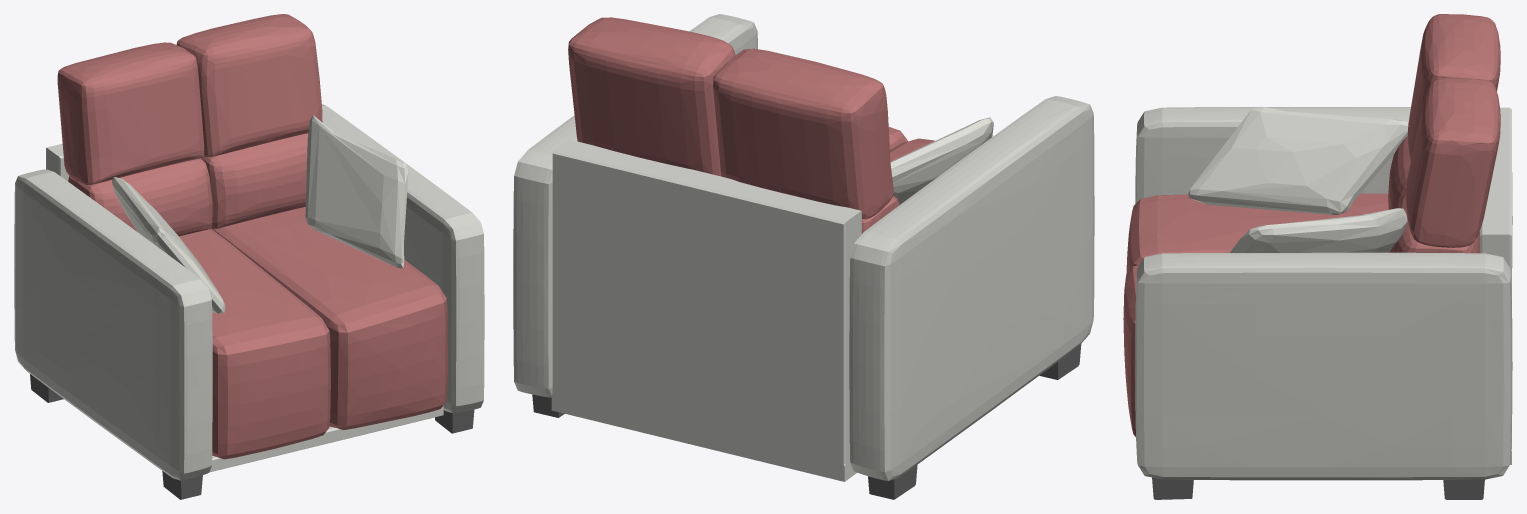
The model's file is sh-scopia-simple-sofa.glb.
3 views of the same model, side by side, from view 1: azimuth 30°, elevation 25°; view 2: azimuth 150°, elevation 25°; view 3: azimuth 270°, elevation 25° (orthographic). The views are drawn at different scales.
Visible parts, largest first — view 1: coj_grandes_Cube.003, base_sofa_Cube.002, cojin1_Cube.004, pata_Cube.006; view 2: base_sofa_Cube.002, coj_grandes_Cube.003, cojin1_Cube.004, pata_Cube.006; view 3: base_sofa_Cube.002, coj_grandes_Cube.003, cojin1_Cube.004, pata_Cube.006.
Boxes of the visible parts, x1,y1,x2,y2 form: coj_grandes_Cube.003: [57, 14, 447, 459]; base_sofa_Cube.002: [14, 104, 484, 480]; cojin1_Cube.004: [112, 115, 408, 313]; pata_Cube.006: [30, 374, 474, 499]; base_sofa_Cube.002: [513, 14, 1094, 481]; coj_grandes_Cube.003: [568, 17, 934, 233]; cojin1_Cube.004: [890, 117, 993, 204]; pata_Cube.006: [532, 344, 1081, 499]; base_sofa_Cube.002: [1135, 107, 1512, 480]; coj_grandes_Cube.003: [1123, 14, 1500, 436]; cojin1_Cube.004: [1188, 107, 1408, 252]; pata_Cube.006: [1152, 477, 1484, 499].
Size of the model in its own units: 0.9996 by 1 by 1.
